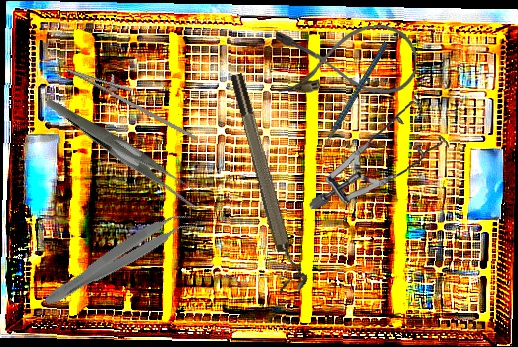Cannula: (275, 24, 417, 96)
Chopper: (288, 41, 421, 164)
Dressing Forceps: (45, 61, 205, 239)
Fixation Ring: (226, 69, 310, 295)
Needle Holder: (59, 57, 208, 141)
Speculum: (303, 94, 452, 210)
Tissue Forceps: (40, 203, 198, 317)
